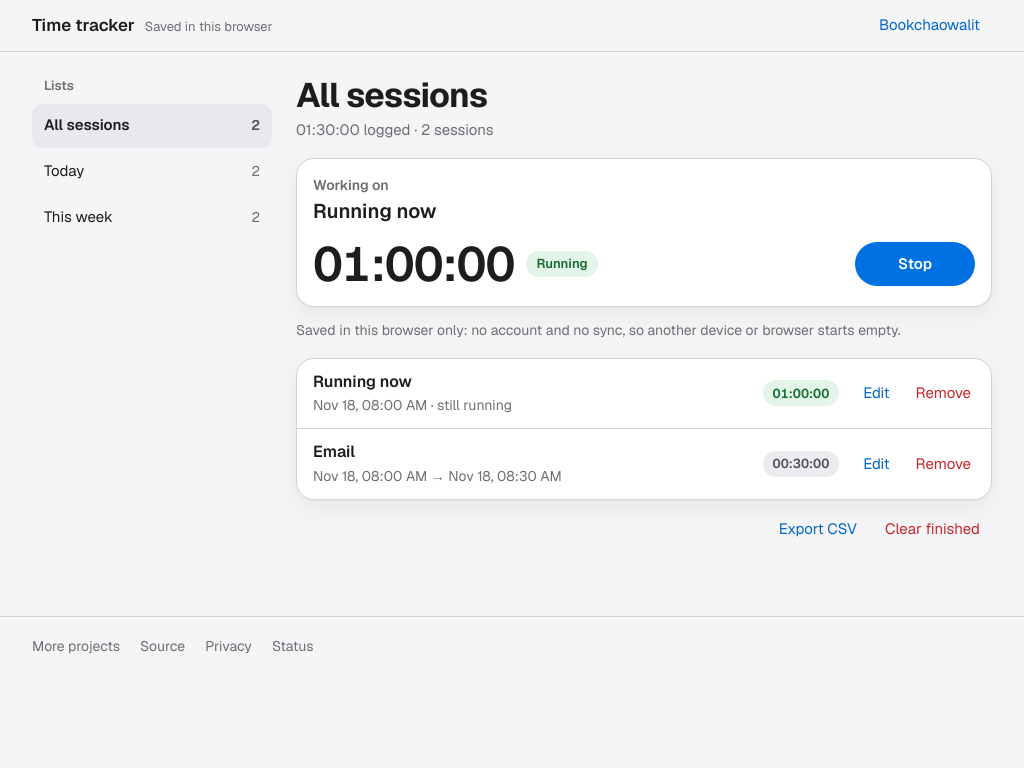
Test case: remove, clear and undo › closing the toast while a session runs moves focus to Stop
Click the button "Remove" in the row of "Email" at (943, 464), box [904,442,983,486]
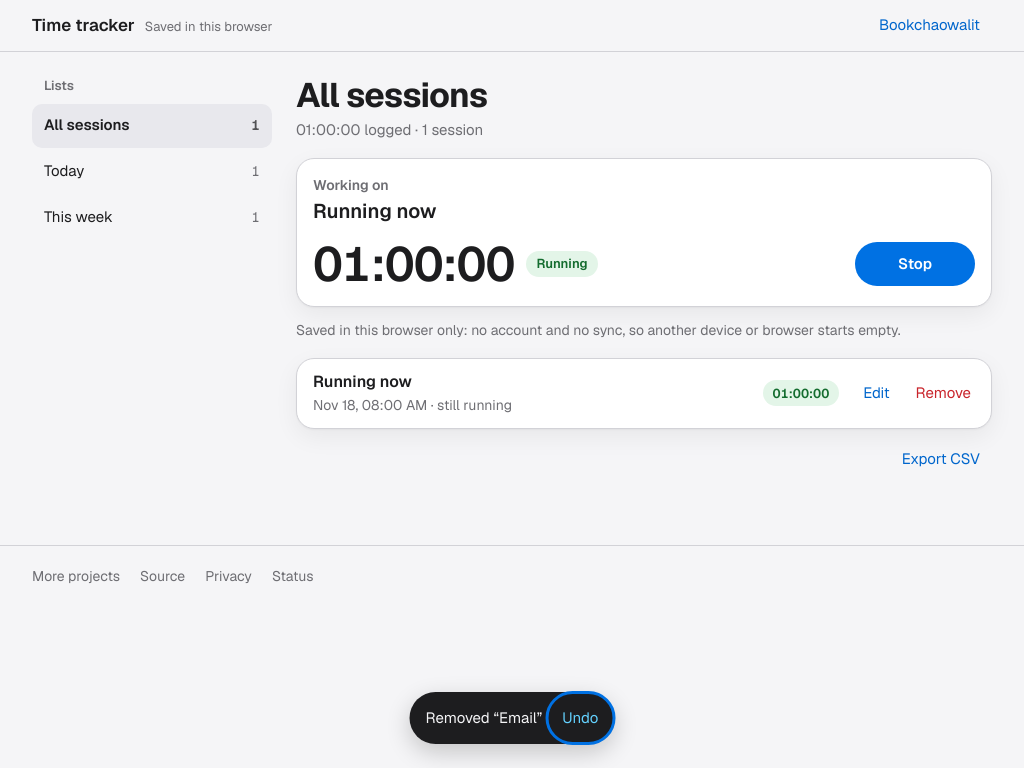
Press Escape in the element with class "as-toast", box [410,692,614,744]
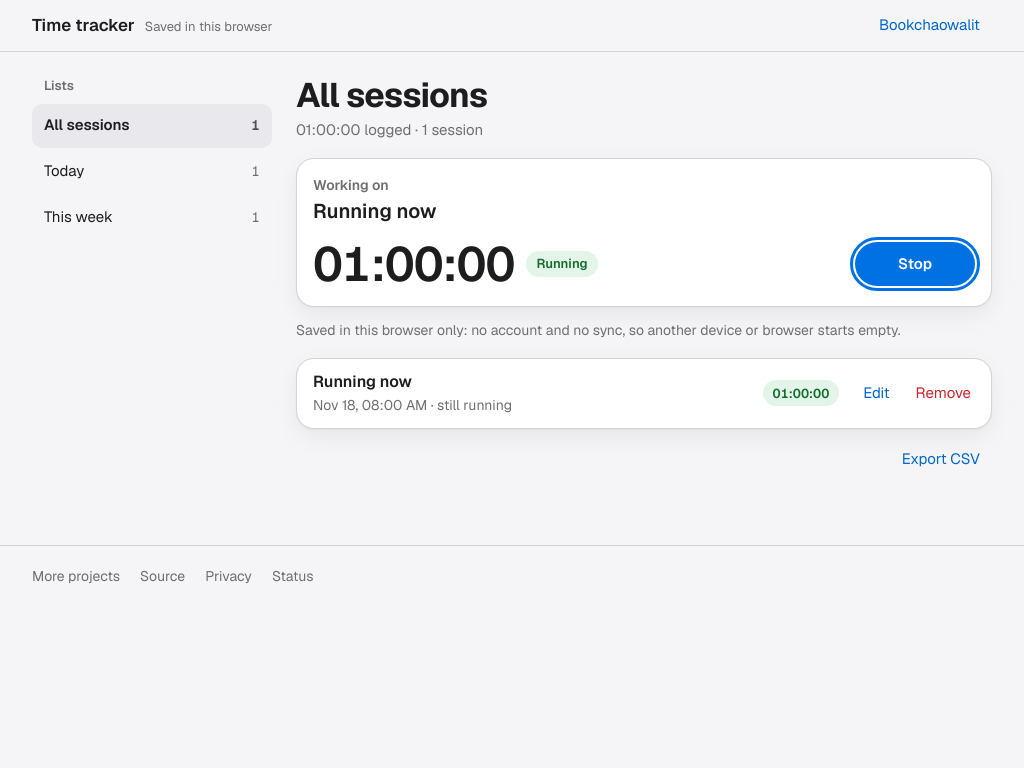
expect the button "Stop" is shown: met, box [855,242,975,286]
Click the button "Remove" at (943, 394), box [904,372,983,416]
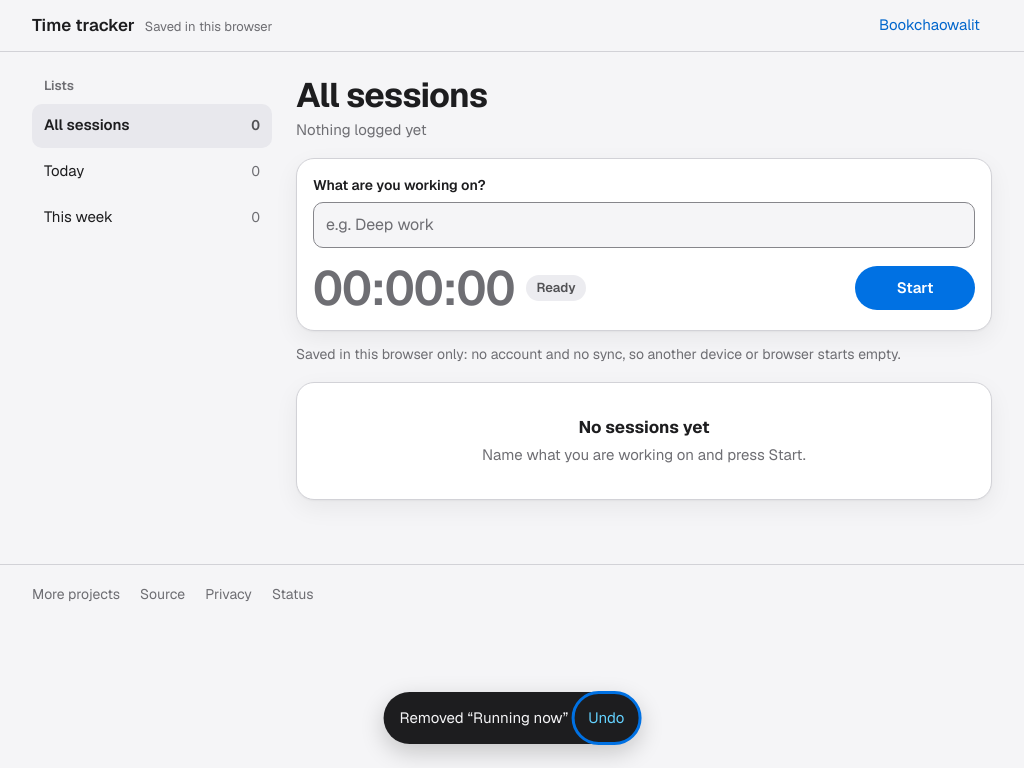
Click the button "Undo" at (606, 718), box [576,696,636,740]
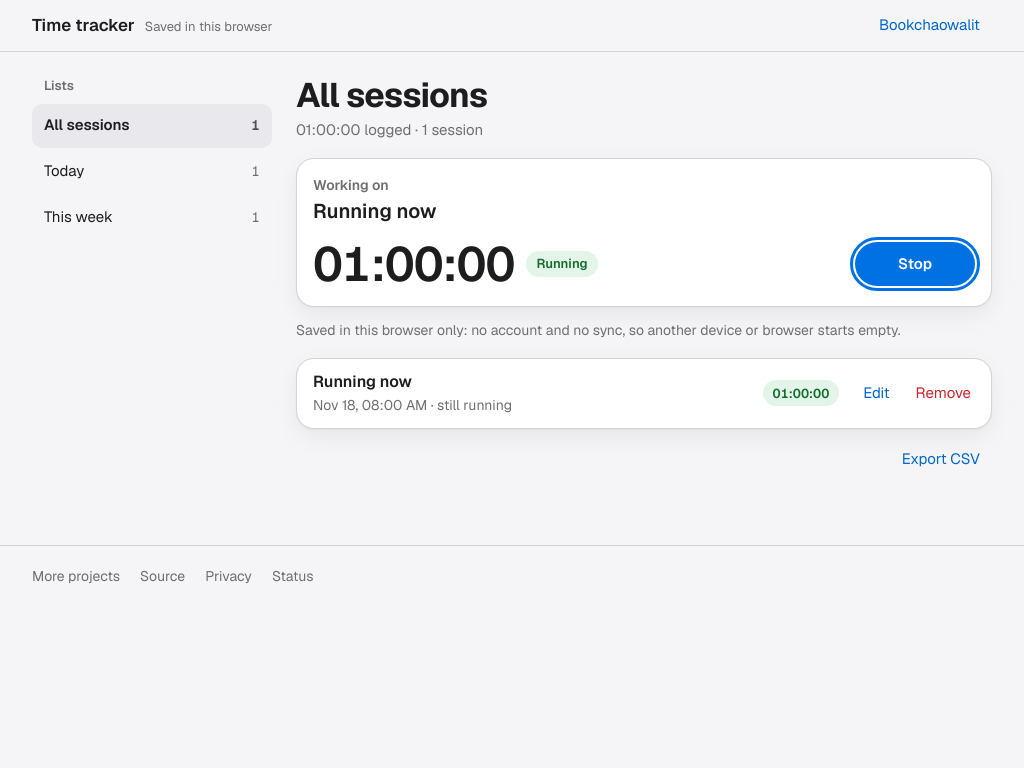
expect the button "Stop" is shown: met, box [855,242,975,286]
